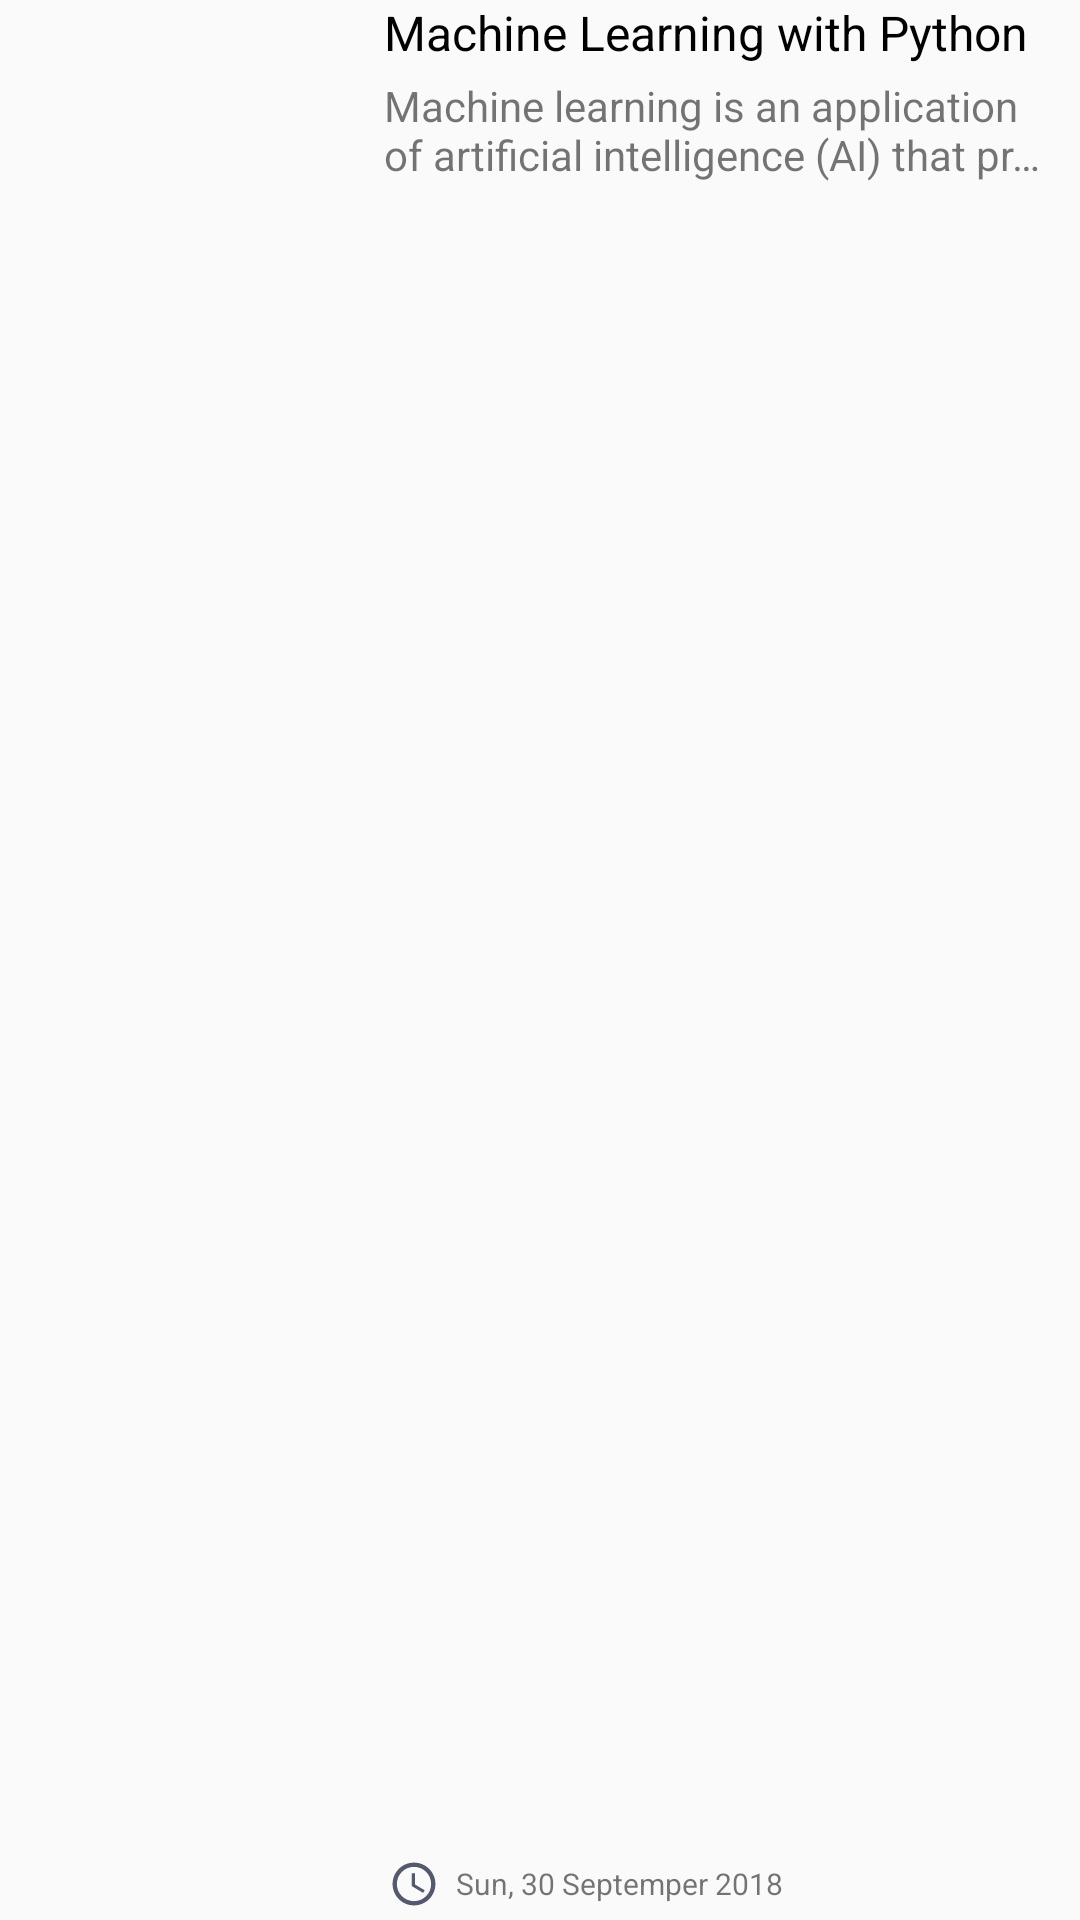

Locate icon controls on the screen. Image size 1080x1920, boxes as (x1=x1, y1=y1, x2=x2, y2=y2).
date: (x1=392, y1=1862, x2=436, y2=1906)
